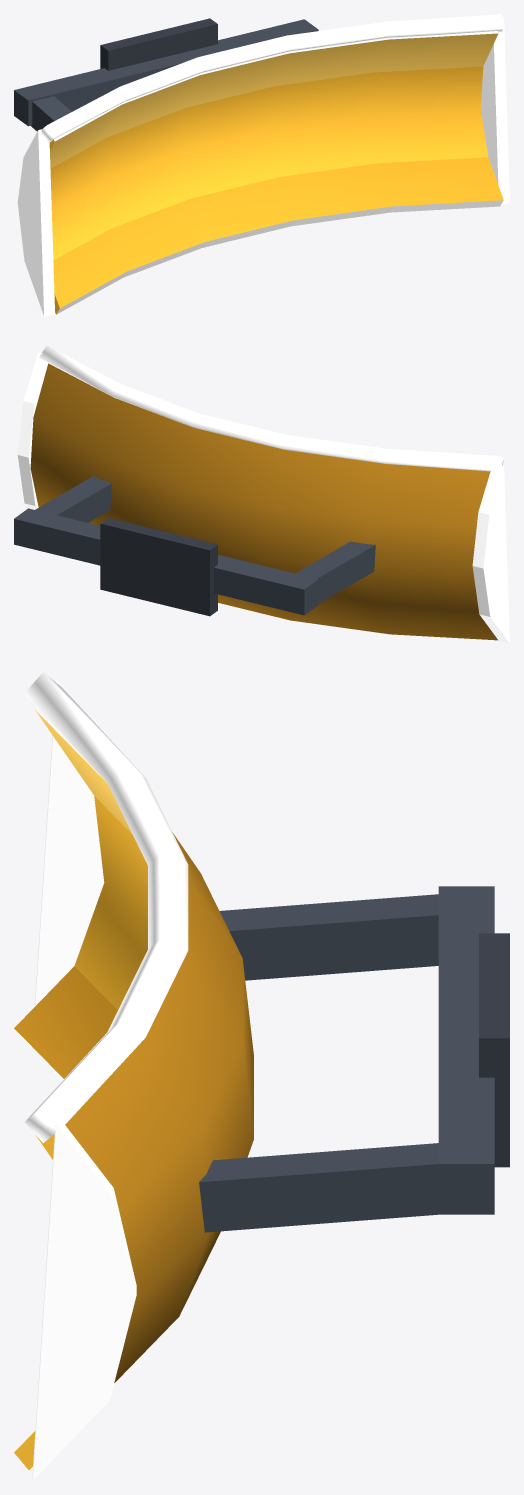
File: plow-blade.glb
3 renders of one model, top to bottom at view 1: azimuth 30°, elevation 25°; view 2: azimuth 150°, elevation 25°; view 3: azimuth 270°, elevation 25°, orthographic. The views are drawn at different scales.
Parts seen in each view (by area): view 1: plow-blade; view 2: plow-blade; view 3: plow-blade.
Boxes of the visible parts, x1,y1,x2,y2 form: plow-blade: [14, 14, 509, 316]; plow-blade: [14, 345, 509, 643]; plow-blade: [14, 672, 509, 1480].
Size of the model in its own units: 3.4 by 1.31 by 1.6.
